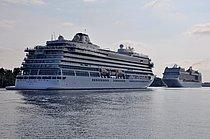Ship: (9, 25, 159, 94), (159, 62, 208, 94)
